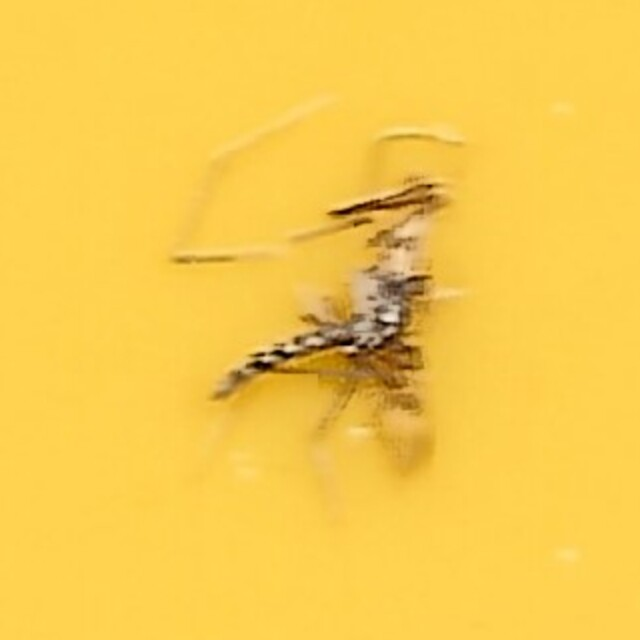Nematocera: (200, 215, 440, 425)
